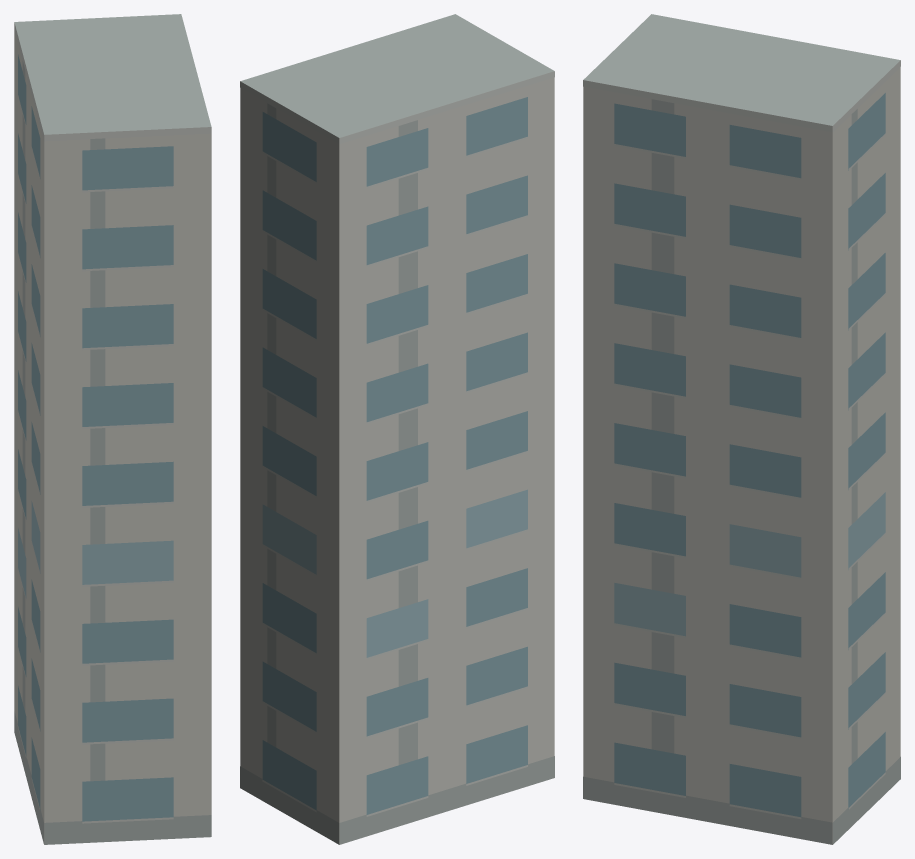
Rendered from residential-fb4ad14c-89dd-41a9-ab46-21f29979a7bb.glb.
3 views of the same model, side by side, from view 1: azimuth 30°, elevation 25°; view 2: azimuth 150°, elevation 25°; view 3: azimuth 270°, elevation 25° (orthographic).
Parts seen in each view (by area): view 1: residential-fb4ad14c-89dd-41a9-ab46-21f29979a7bb.tmp; view 2: residential-fb4ad14c-89dd-41a9-ab46-21f29979a7bb.tmp; view 3: residential-fb4ad14c-89dd-41a9-ab46-21f29979a7bb.tmp.
Part boxes in pixels (x1=…): residential-fb4ad14c-89dd-41a9-ab46-21f29979a7bb.tmp: x1=14, y1=14, x2=211, y2=844; residential-fb4ad14c-89dd-41a9-ab46-21f29979a7bb.tmp: x1=240, y1=14, x2=554, y2=844; residential-fb4ad14c-89dd-41a9-ab46-21f29979a7bb.tmp: x1=583, y1=14, x2=900, y2=844.
Size of the model in its own units: 9.03 by 27 by 10.82.
